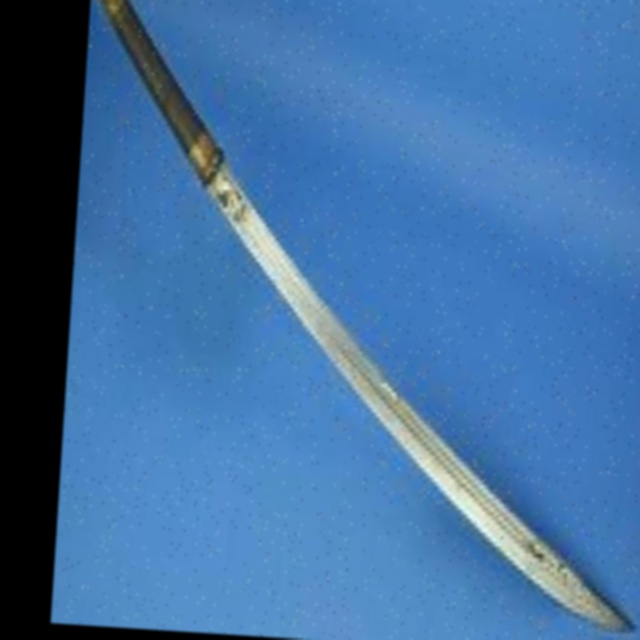Sharp-Object: (52, 0, 640, 633)
